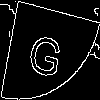G: (25, 25, 66, 80)
